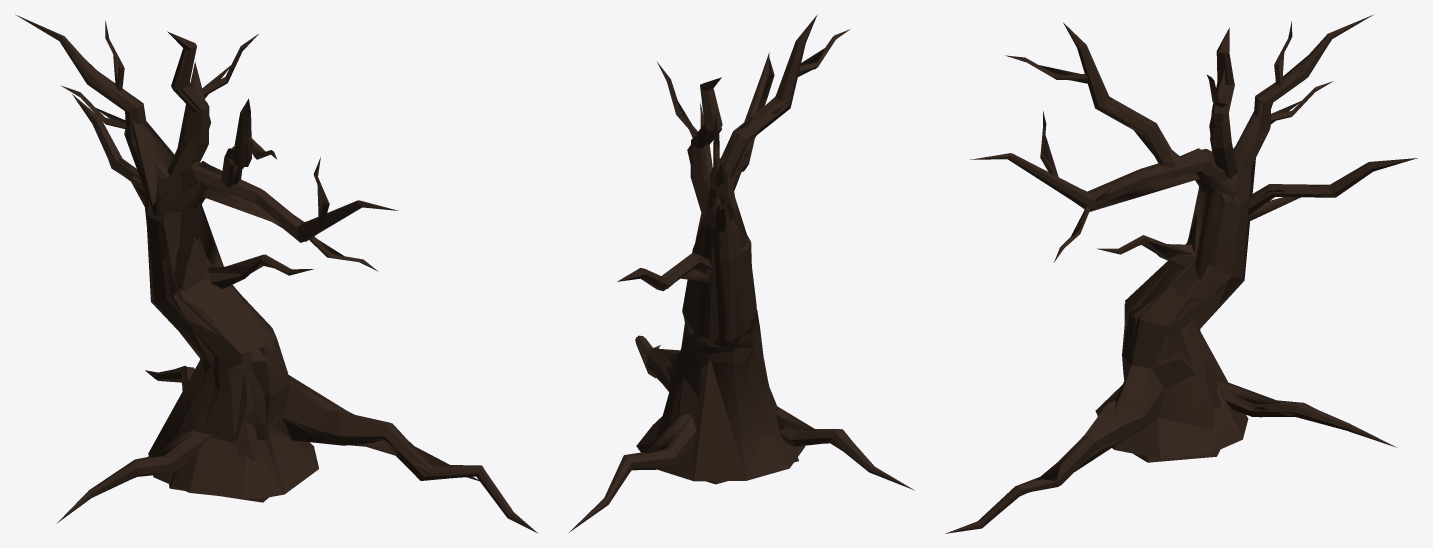
File: TreeTwo.fbx
3 views of the same model, side by side, from view 1: azimuth 30°, elevation 25°; view 2: azimuth 150°, elevation 25°; view 3: azimuth 270°, elevation 25° (orthographic). The views are drawn at different scales.
Parts seen in each view (by area): view 1: tree_scary_dead, tree_scary_dead.001, tree_scary_dead.002; view 2: tree_scary_dead, tree_scary_dead.001, tree_scary_dead.002; view 3: tree_scary_dead, tree_scary_dead.001, tree_scary_dead.002.
Boxes of the visible parts, x1,y1,x2,y2 form: tree_scary_dead: [15, 14, 537, 533]; tree_scary_dead.001: [72, 49, 485, 498]; tree_scary_dead.002: [122, 62, 479, 502]; tree_scary_dead: [569, 14, 914, 532]; tree_scary_dead.001: [616, 28, 855, 480]; tree_scary_dead.002: [643, 98, 831, 484]; tree_scary_dead: [945, 14, 1417, 533]; tree_scary_dead.001: [1011, 34, 1349, 496]; tree_scary_dead.002: [1021, 70, 1300, 495].
Bounding box in the file's own units: 546 × 621 × 650.
